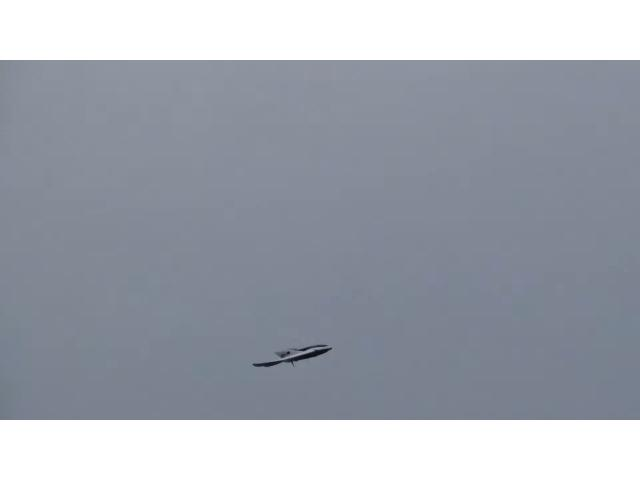Anti-Drone: (254, 344, 330, 367)
